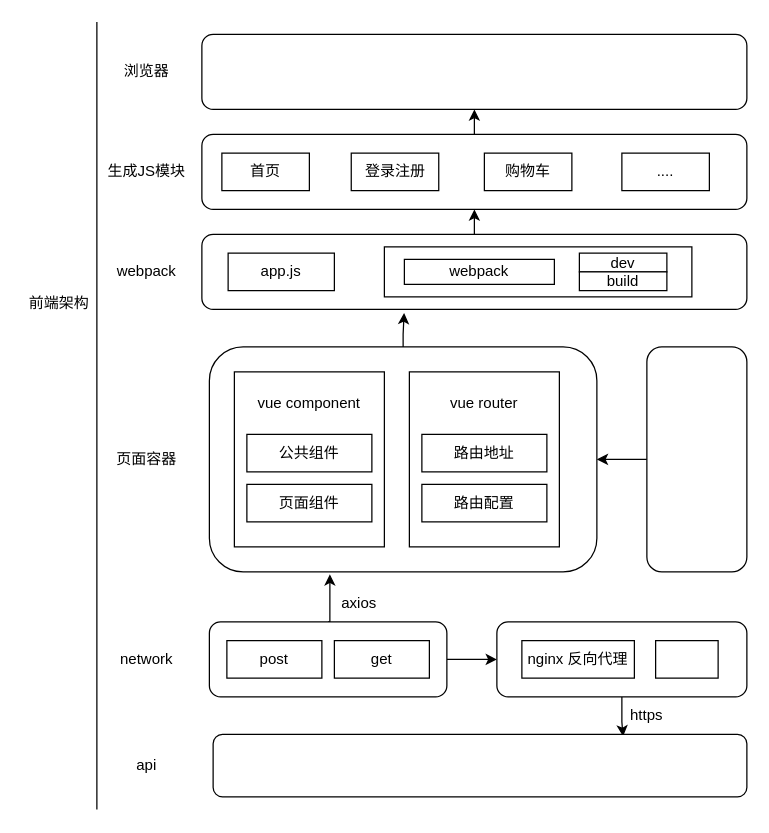
Some shapes in this 769 by 833 pixel diagram are drawn without their labels. Here are the shapes that lost their labels. From the top down, the centre of each, then its label:
At point (474, 71): "HTML/CSS/JS(单页面应用，各模块按需加载)".
At point (696, 459): "elementUI".
At point (686, 658): "ssl".
At point (479, 765): "后端接口".
